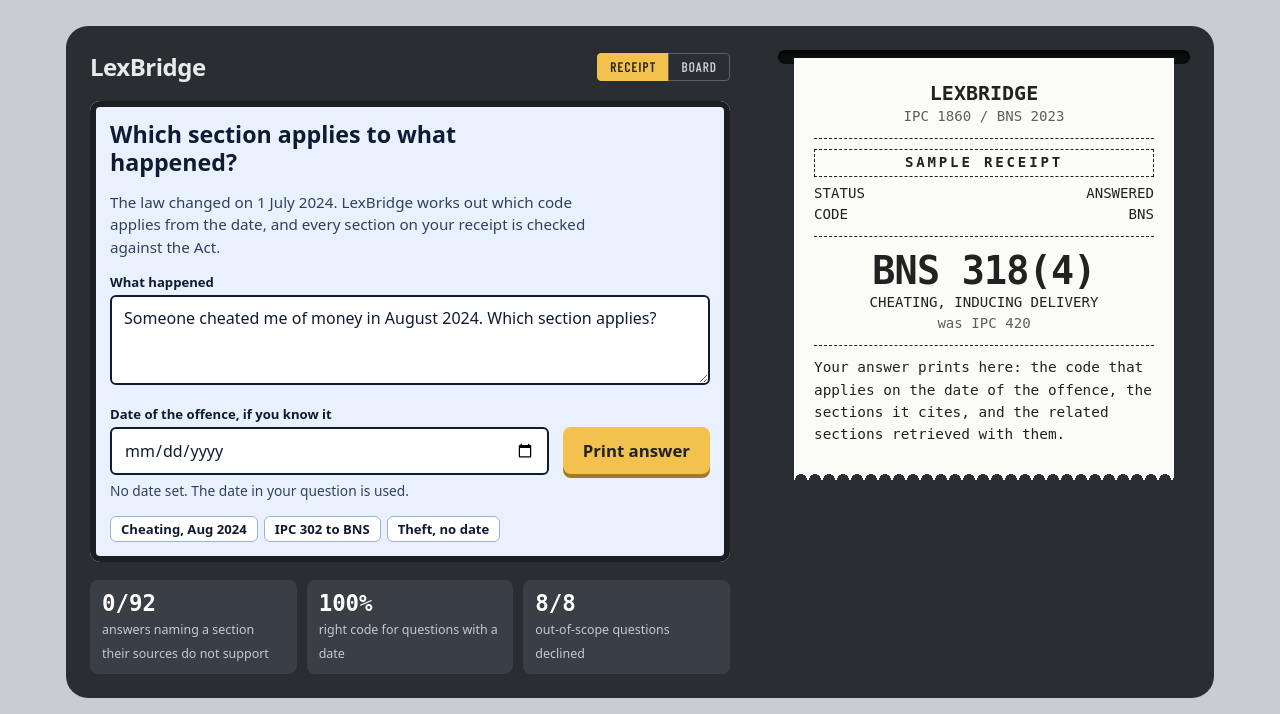
Test case: receipt view › prints why a question was not answered
Click the button "Print answer".
click(636, 451)  # box [563,427,710,474]
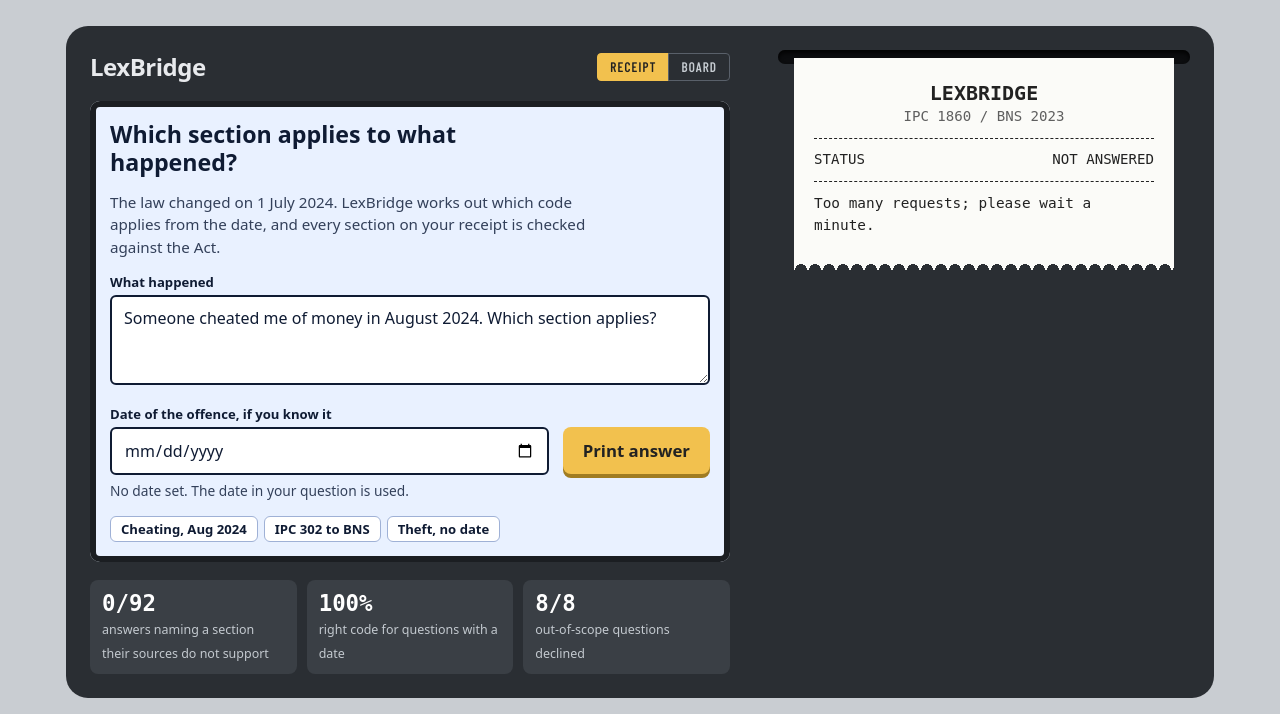
Expected: the message shows "Too many requests", [814,195,1091,233]
